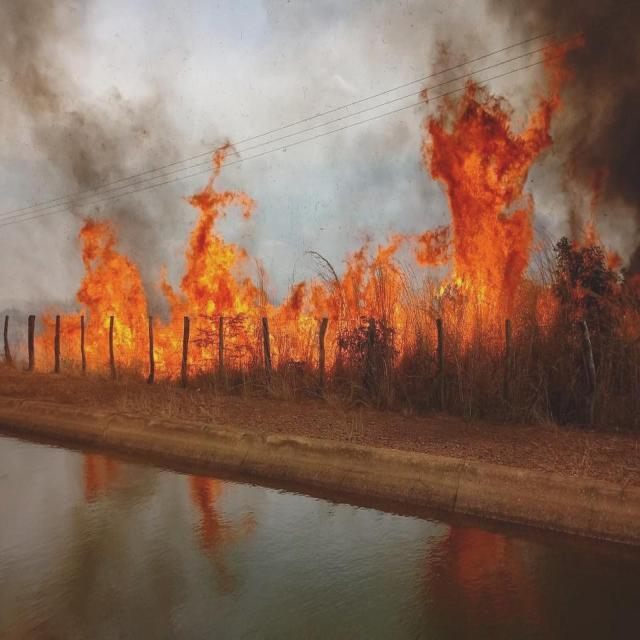Fire: (428, 103, 540, 309), (186, 185, 256, 361), (74, 221, 144, 377), (278, 295, 430, 338)
Smoke: (30, 38, 166, 212), (546, 0, 640, 186)
